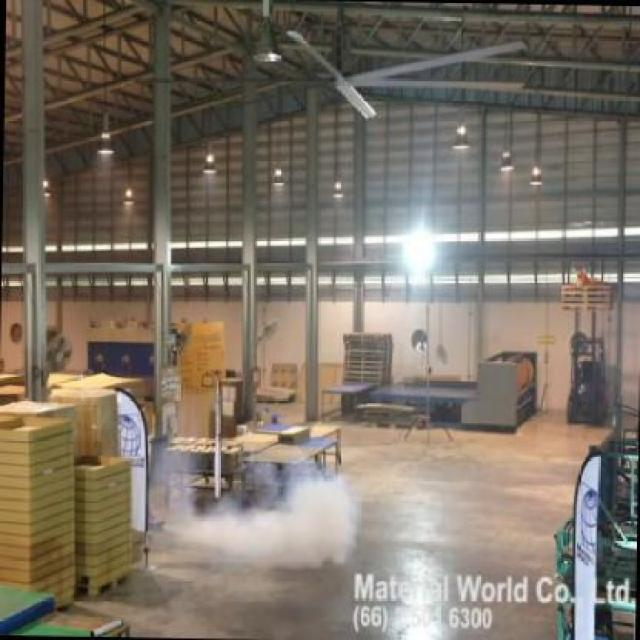fire: (195, 462, 368, 576)
